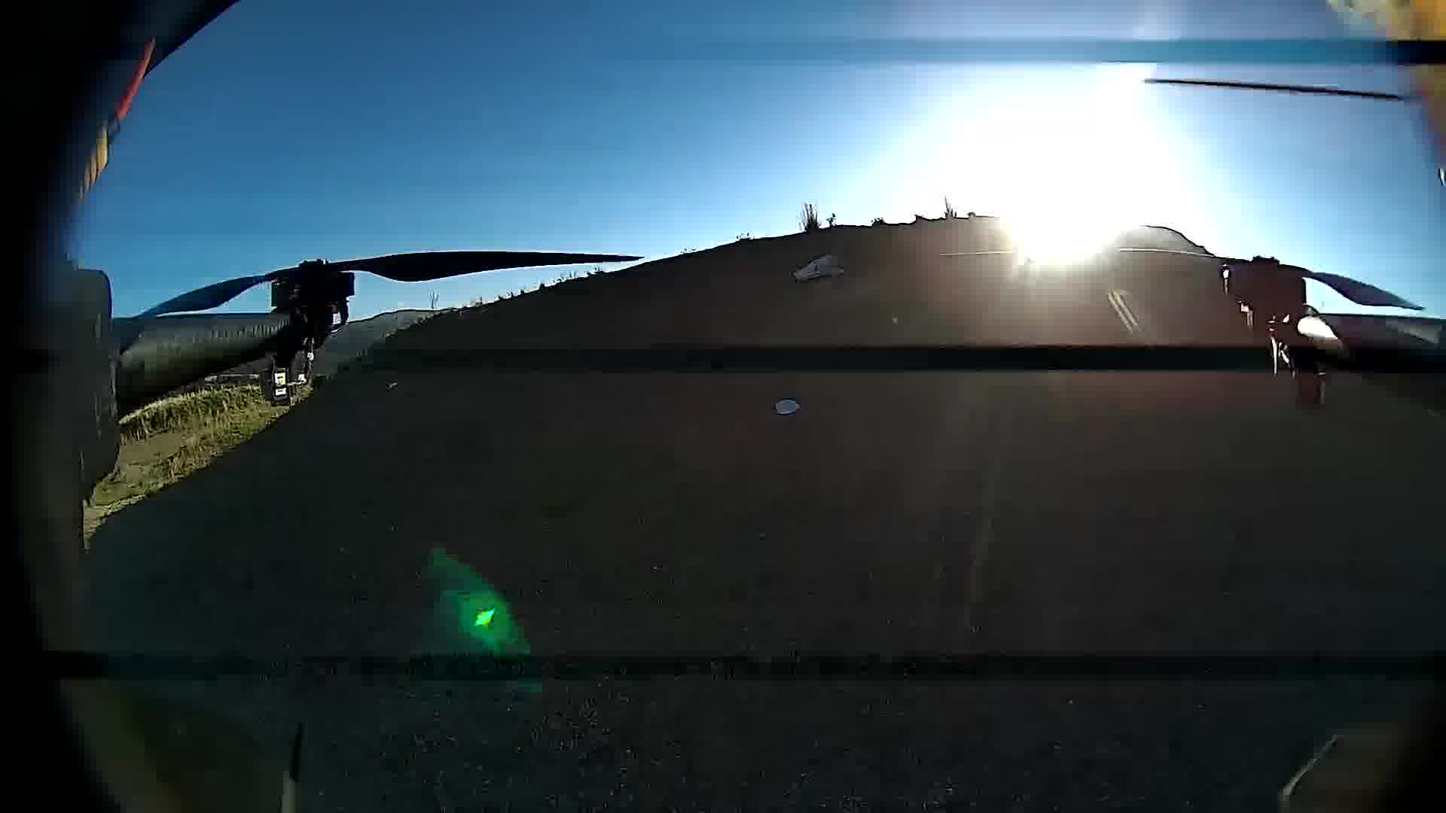Target: (773, 398, 803, 417)
